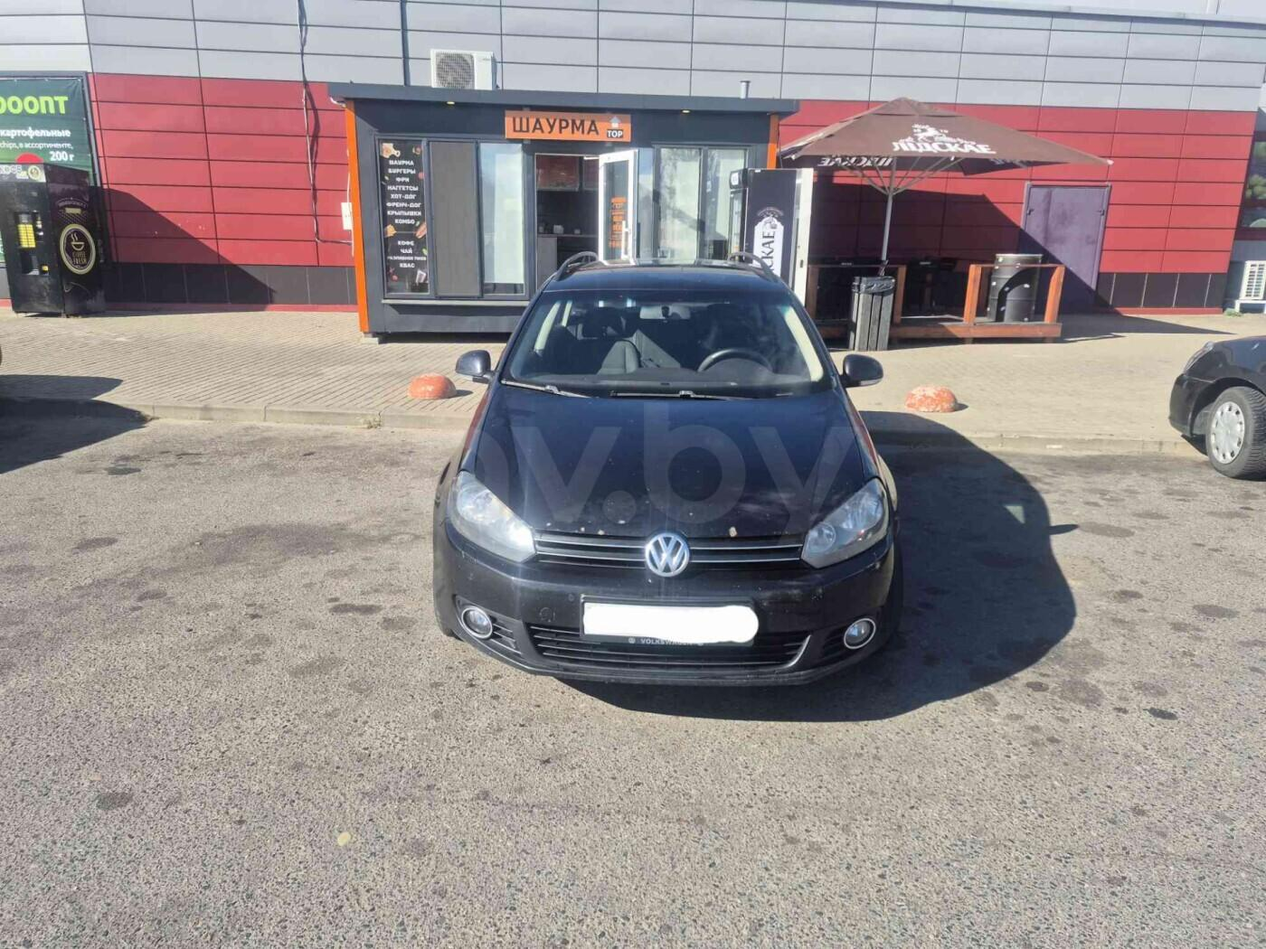Golf_2008-2013: (430, 261, 902, 694)
